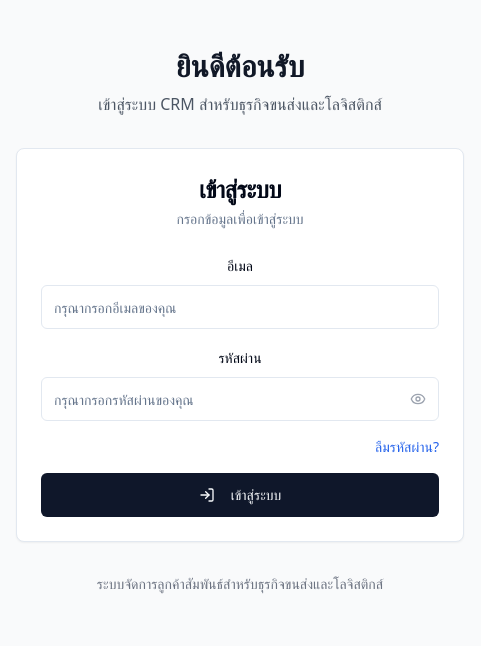
Scenario: LoginPage › shows error message on login failure
Type "test@example.com" into the field labelled "อีเมล".
click(240, 307); type("test@example.com")  # box [41,285,439,329]
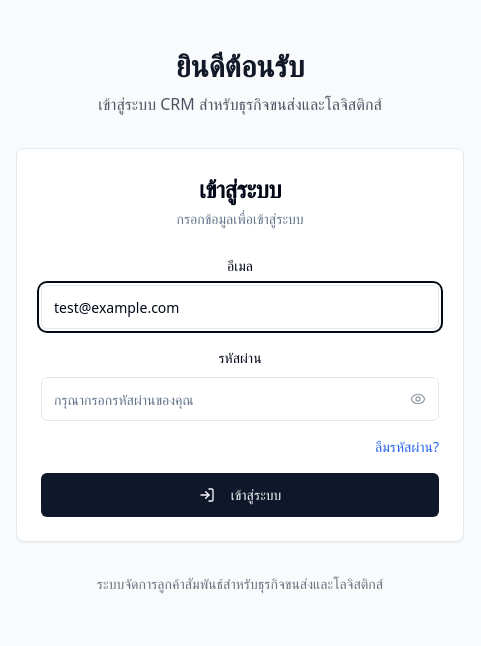
Type "wrongpassword" into the password field with placeholder "กรุณากรอกรหัสผ่านของคุณ".
click(240, 399); type("wrongpassword")  # box [41,377,439,421]
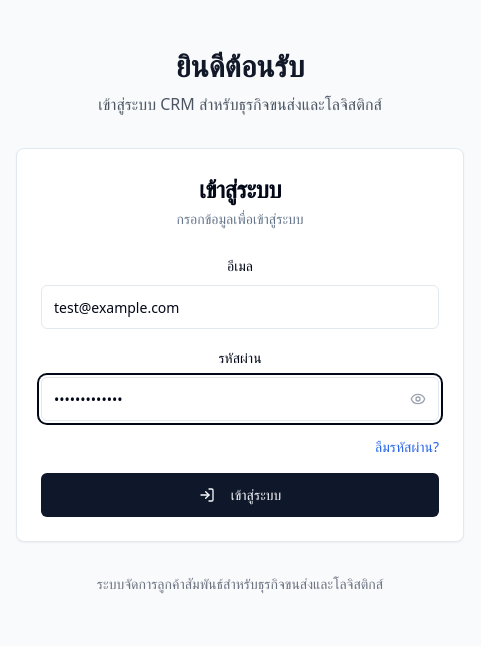
Click the button "เข้าสู่ระบบ".
click(240, 495)  # box [41,473,439,517]
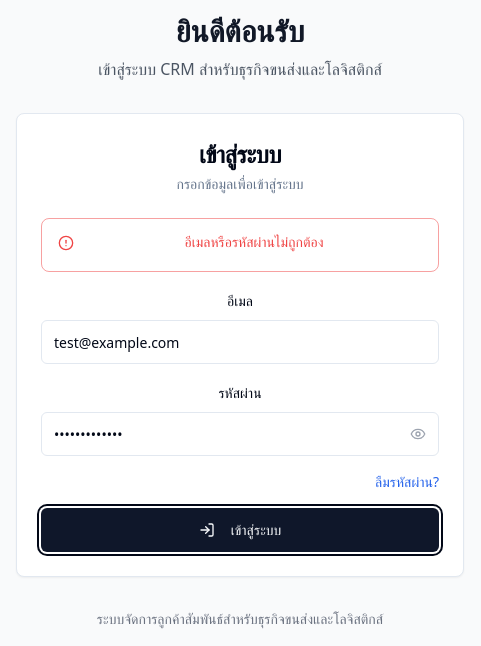
Expected: the text "อีเมลหรือรหัสผ่านไม่ถูกต้อง" is shown, [184,232,324,251]
